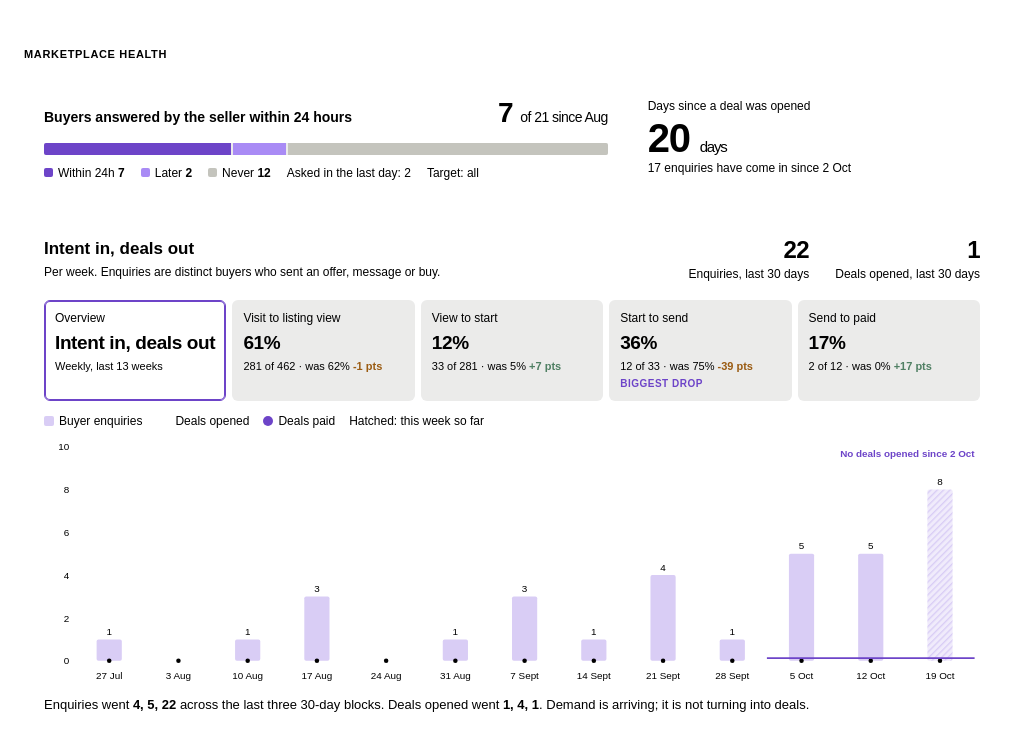
HomeView › switches the chart to a funnel step and flags the biggest drop
(page scrolled)
Expected: the text "Biggest drop" is shown, [620, 378, 703, 388]
Expected: the text "-39 pts" is shown, [718, 360, 753, 372]
Click the button "Start to send 36% 12 of 33 · was 75% -39 pts Biggest drop" at [700, 350], box [609, 300, 792, 401]
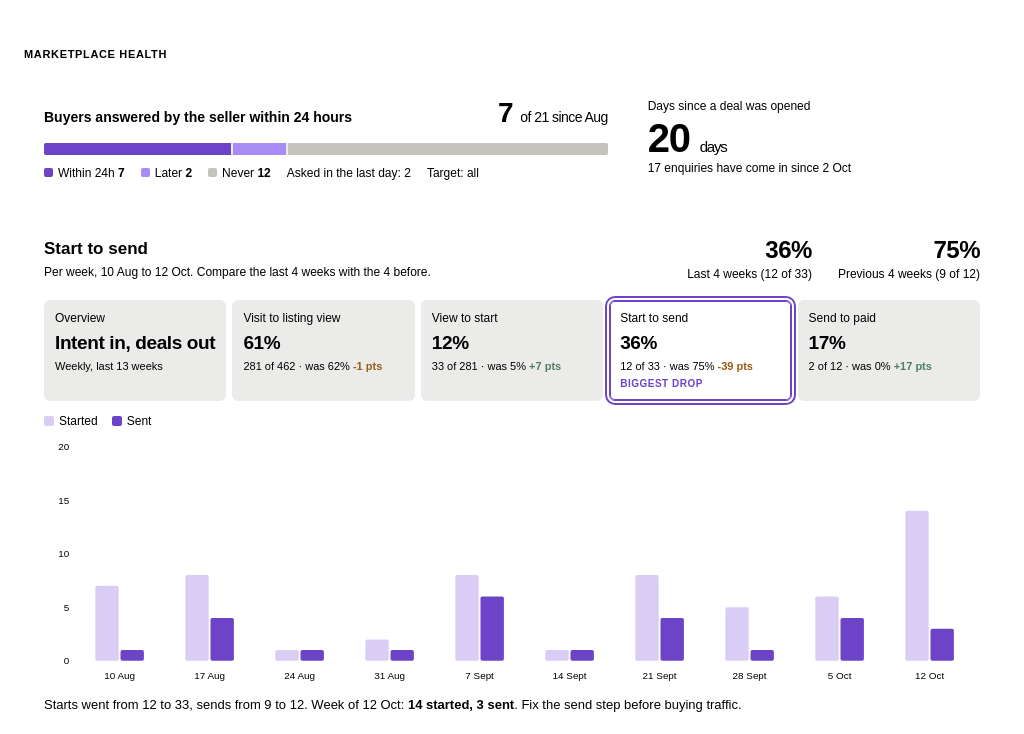
Result: the heading "Start to send" is shown at [44, 239, 148, 258]
Result: the text "Last 4 weeks (12 of 33)" is shown at [687, 267, 812, 281]
Result: the text "14 started, 3 sent" is shown at [408, 697, 514, 712]
